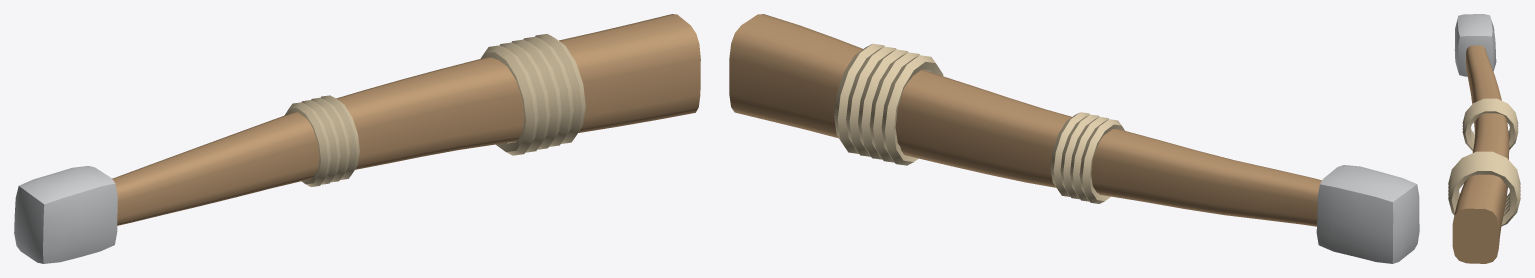
Rendered from CrossbowLimb.fbx.
3 renders of one model, left to right at view 1: azimuth 30°, elevation 25°; view 2: azimuth 150°, elevation 25°; view 3: azimuth 270°, elevation 25°, orthographic. The views are drawn at different scales.
Parts seen in each view (by area): view 1: CrossbowLimb; view 2: CrossbowLimb; view 3: CrossbowLimb.
Part boxes in pixels (left/top/right/bottom): CrossbowLimb: left=14, top=14, right=700, bottom=263; CrossbowLimb: left=729, top=14, right=1419, bottom=263; CrossbowLimb: left=1448, top=14, right=1520, bottom=263.
Bounding box in the file's own units: 1.62 × 0.2359 × 0.242.
